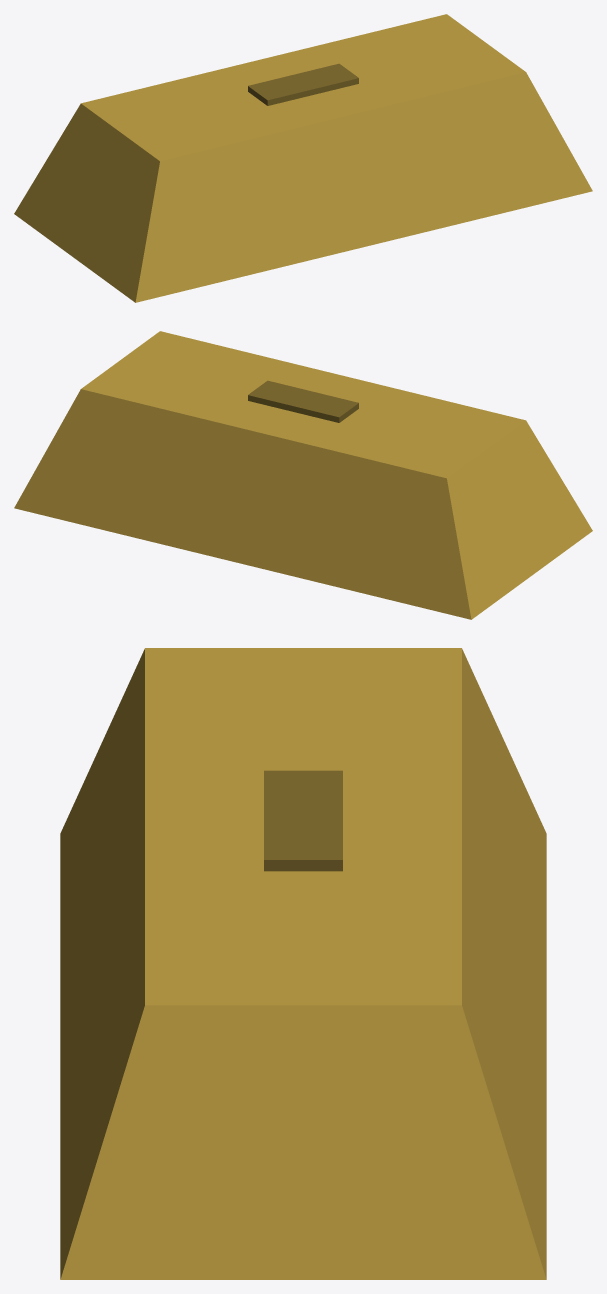
Rendered from goldBar.glb.
3 views of the same model, one above another, from view 1: azimuth 30°, elevation 25°; view 2: azimuth 150°, elevation 25°; view 3: azimuth 270°, elevation 25° (orthographic). The views are drawn at different scales.
Parts seen in each view (by area): view 1: goldBar; view 2: goldBar; view 3: goldBar.
Part boxes in pixels (<box>): goldBar: <box>14,14,592,302</box>; goldBar: <box>14,331,592,619</box>; goldBar: <box>60,648,546,1279</box>.
Bounding box in the file's own units: 1 × 0.252 × 0.46.
